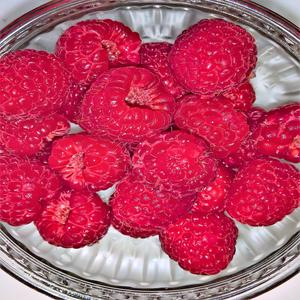raspb: (9, 42, 299, 223)
